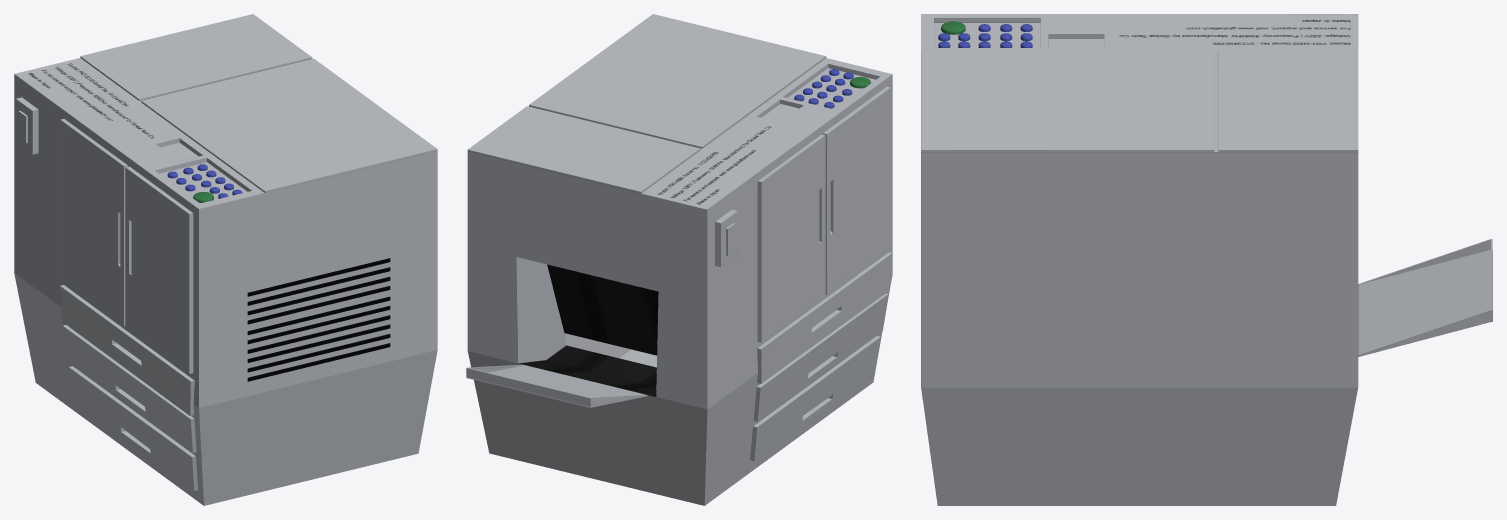
Rendered from ImpressoraFASE1.fbx.
3 renders of one model, left to right at view 1: azimuth 30°, elevation 25°; view 2: azimuth 150°, elevation 25°; view 3: azimuth 270°, elevation 25°, orthographic. The views are drawn at different scales.
Parts seen in each view (by area): view 1: ImpressoraFASE1; view 2: ImpressoraFASE1; view 3: ImpressoraFASE1.
Part boxes in pixels (x1,y1,x2,y2): ImpressoraFASE1: (14,14,437,505); ImpressoraFASE1: (466,14,892,505); ImpressoraFASE1: (921,14,1492,505).
Bounding box in the file's own units: 6.1 × 7.24 × 10.33.
